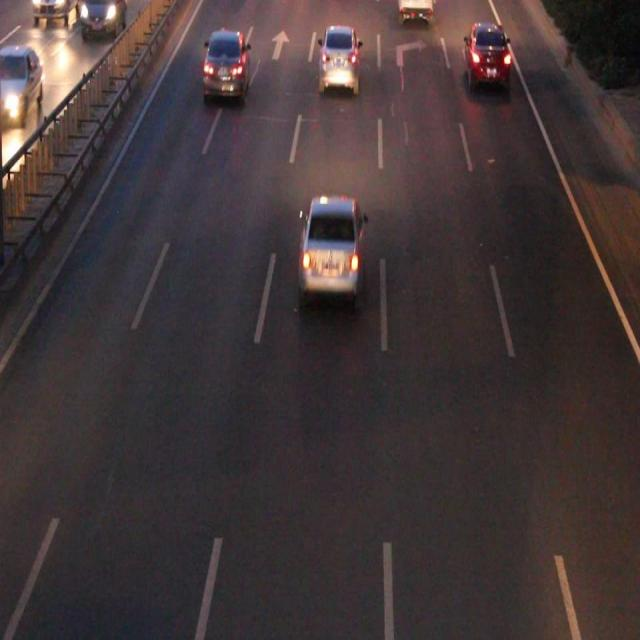car: (300, 198, 361, 288), (204, 34, 248, 95), (464, 26, 509, 84), (319, 29, 357, 90), (398, 1, 431, 22)
